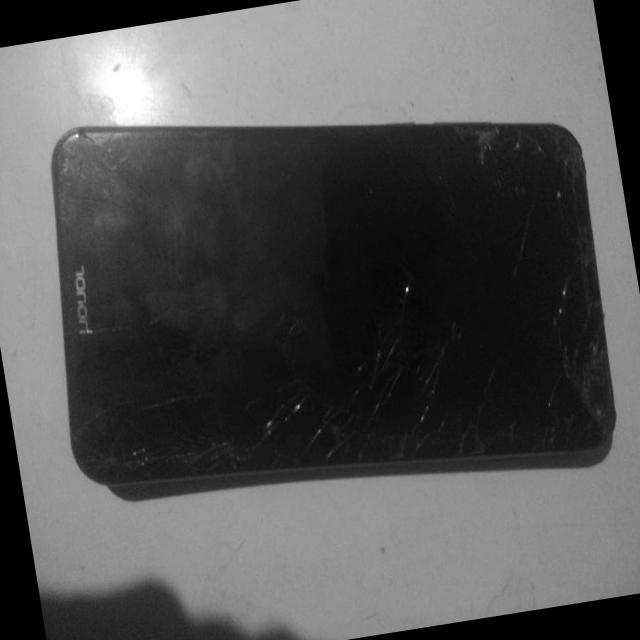screen crack: (512, 116, 635, 441), (245, 360, 452, 505)
